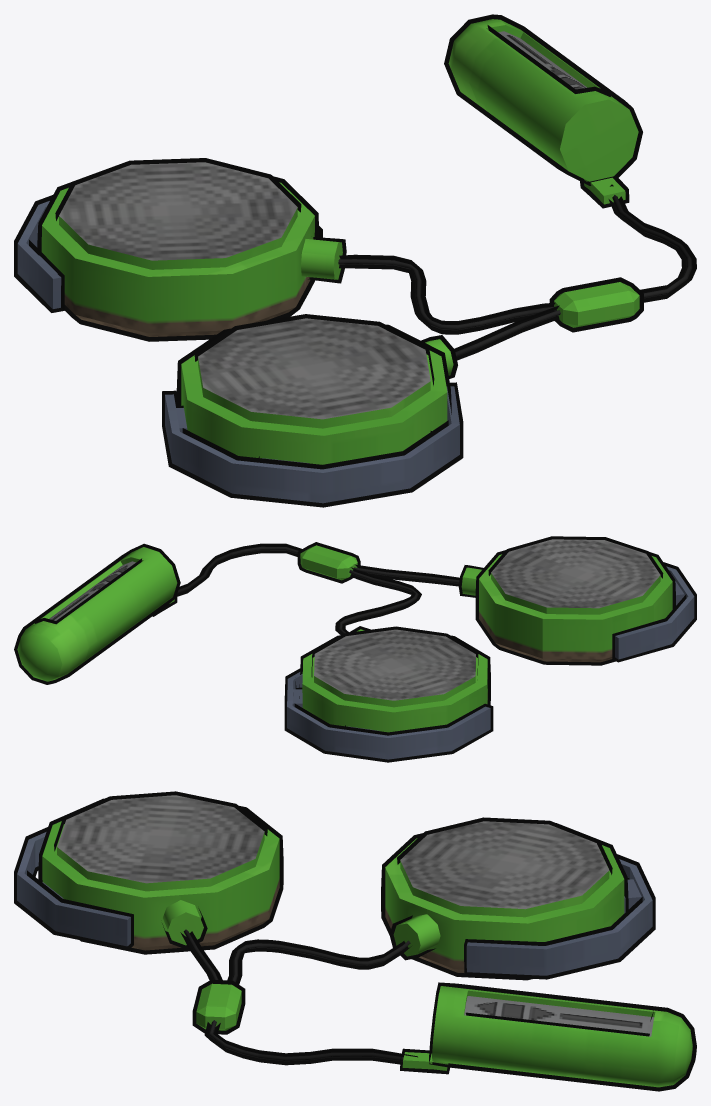
File: Fone estilo persona.glb
3 renders of one model, top to bottom at view 1: azimuth 30°, elevation 25°; view 2: azimuth 150°, elevation 25°; view 3: azimuth 270°, elevation 25°, orthographic. The views are drawn at different scales.
Parts seen in each view (by area): view 1: Fone estilo persona; view 2: Fone estilo persona; view 3: Fone estilo persona.
Part boxes in pixels (<box>): Fone estilo persona: <box>14,14,696,507</box>; Fone estilo persona: <box>14,536,696,762</box>; Fone estilo persona: <box>14,791,696,1091</box>.
Size of the model in its own units: 3.15 by 0.5788 by 3.28.
Materials: 2 (1 with a texture image).
